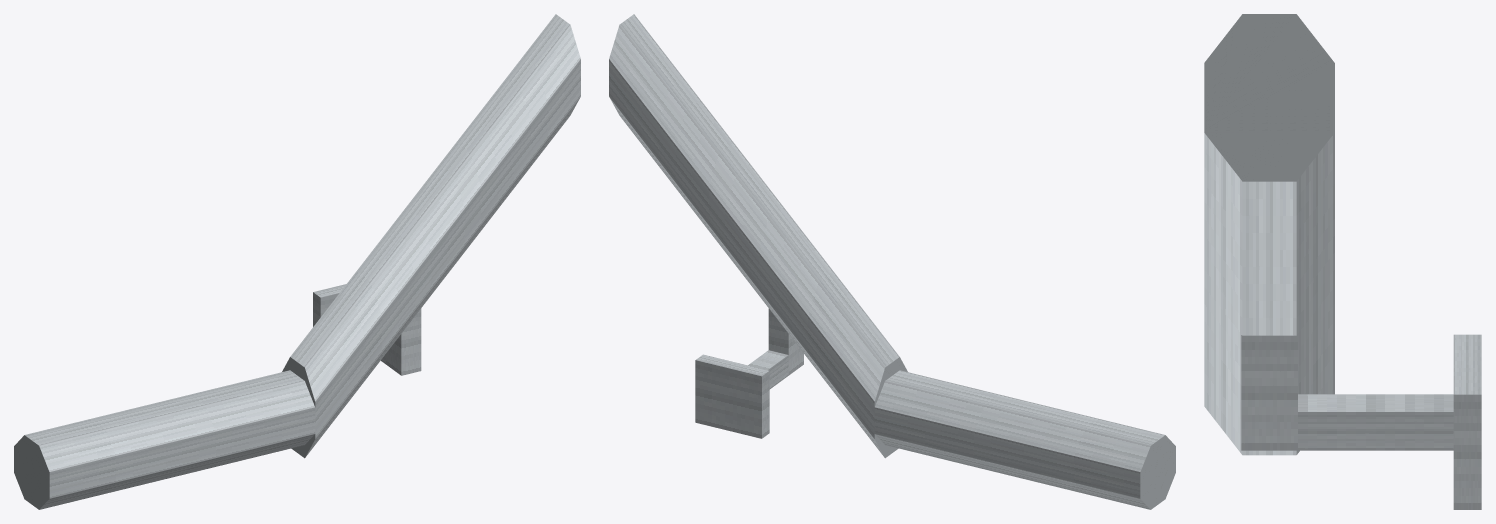
Rendered from foot_pos.obj.
3 renders of one model, left to right at view 1: azimuth 30°, elevation 25°; view 2: azimuth 150°, elevation 25°; view 3: azimuth 270°, elevation 25°, orthographic. The views are drawn at different scales.
Parts seen in each view (by area): view 1: handrail_wall_stainless_round_foot_pos; view 2: handrail_wall_stainless_round_foot_pos; view 3: handrail_wall_stainless_round_foot_pos.
Part boxes in pixels (x1,y1,x2,y2): handrail_wall_stainless_round_foot_pos: (14, 14, 580, 509); handrail_wall_stainless_round_foot_pos: (609, 14, 1175, 509); handrail_wall_stainless_round_foot_pos: (1204, 14, 1481, 509).
Bounding box in the file's own units: 1 × 0.6633 × 0.2452.
